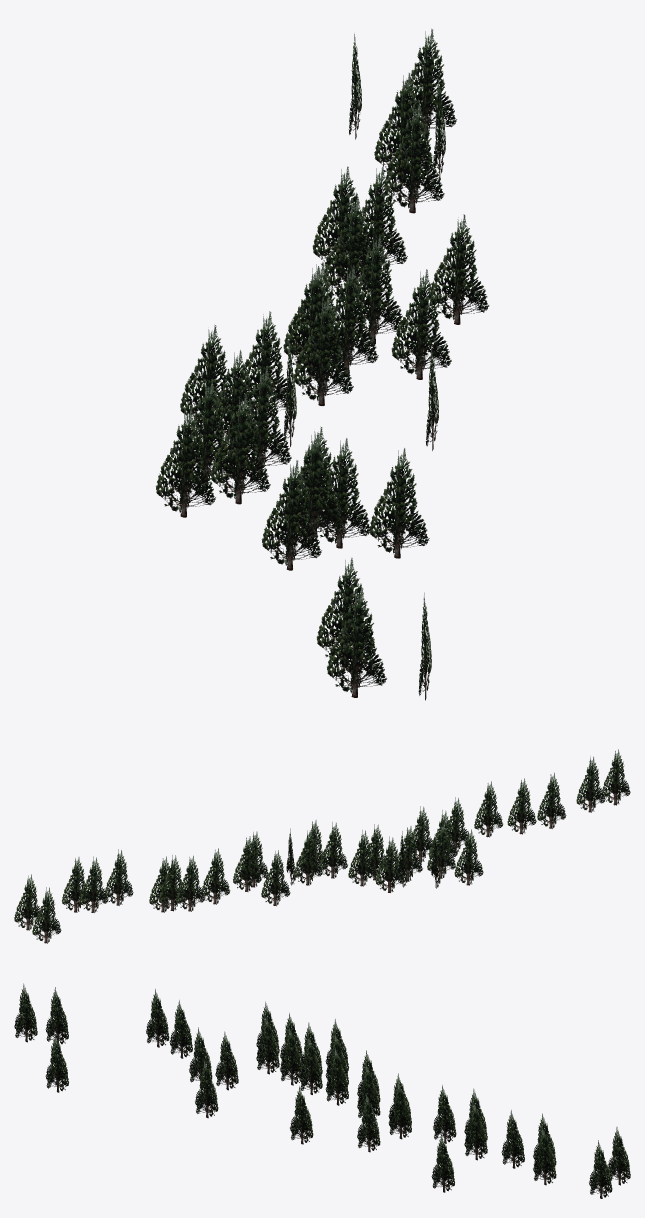
File: RM_PLAYSURFACE_FINAL_INST_PINE_LOD1_74.fbx
3 views of the same model, one above another, from view 1: azimuth 30°, elevation 25°; view 2: azimuth 150°, elevation 25°; view 3: azimuth 270°, elevation 25° (orthographic). The views are drawn at different scales.
Parts seen in each view (by area): view 1: RM_PLAYSURFACE_FINAL_INST_PINE_LOD1_74; view 2: RM_PLAYSURFACE_FINAL_INST_PINE_LOD1_74; view 3: RM_PLAYSURFACE_FINAL_INST_PINE_LOD1_74.
Part boxes in pixels (x1,y1,x2,y2): RM_PLAYSURFACE_FINAL_INST_PINE_LOD1_74: (155, 28, 489, 700); RM_PLAYSURFACE_FINAL_INST_PINE_LOD1_74: (14, 749, 630, 943); RM_PLAYSURFACE_FINAL_INST_PINE_LOD1_74: (14, 983, 630, 1198).
Size of the model in its own units: 331135 by 86660 by 513571.
1 material, 1 textured.
